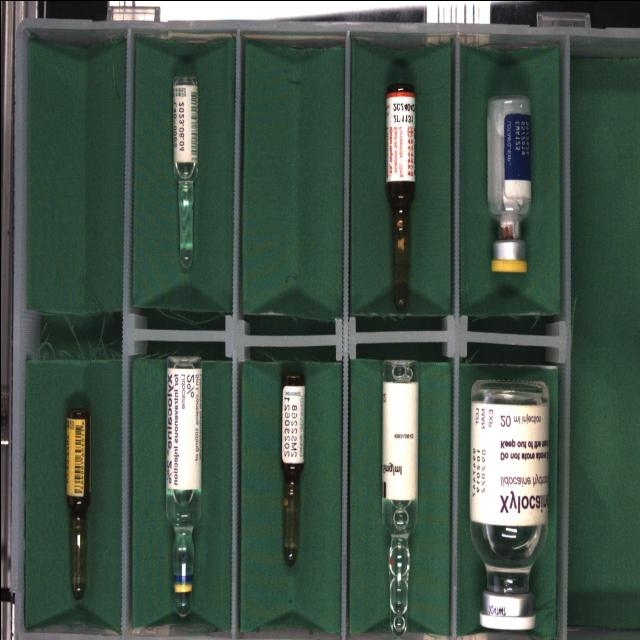Vials: (468, 379, 549, 629), (486, 97, 530, 272)
